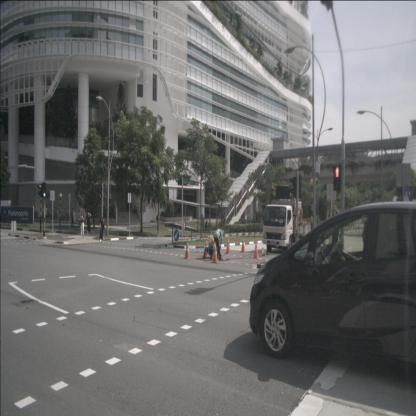human-pedestrian-adult: (99, 212, 105, 244), (79, 211, 85, 238), (86, 211, 92, 236), (156, 211, 160, 233), (70, 207, 74, 228), (200, 214, 204, 233), (133, 205, 138, 214), (208, 219, 212, 229), (205, 221, 208, 230)
movable_object-trafficcone: (212, 242, 219, 264), (252, 240, 260, 259), (184, 238, 190, 259), (203, 238, 209, 257), (225, 237, 231, 254), (240, 235, 246, 252)
vehicle-car: (249, 201, 415, 362)
vehicle-truck: (262, 198, 328, 253)
